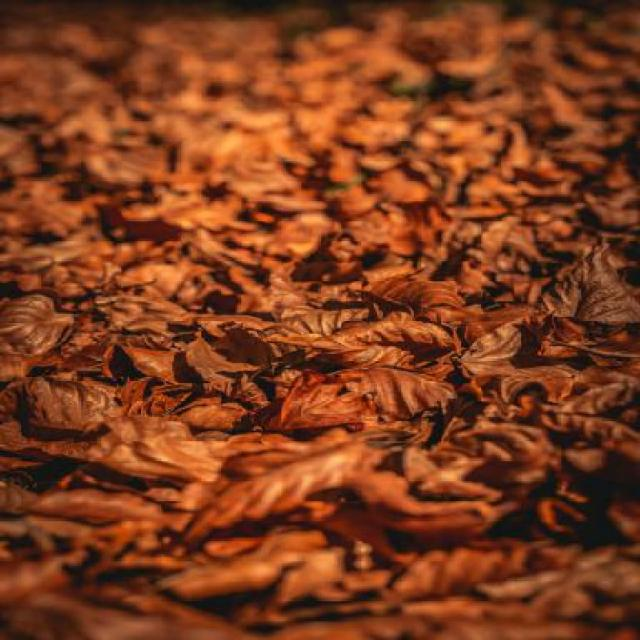organic waste: (31, 199, 579, 619)
